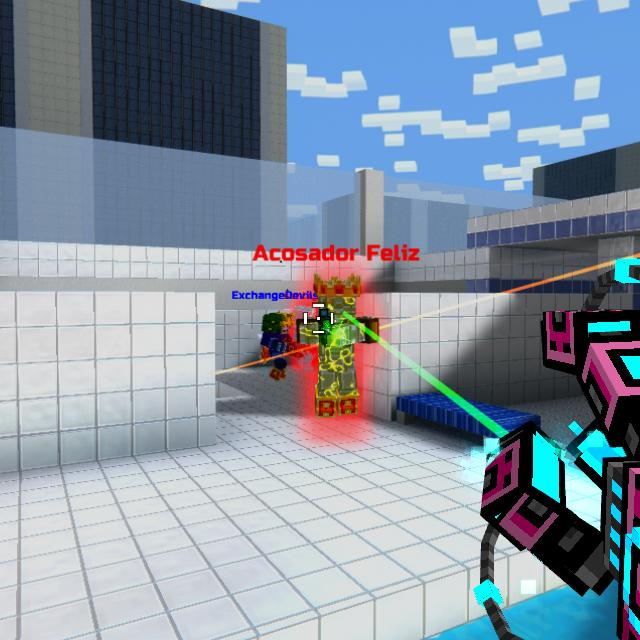Enemy: (296, 281, 381, 420)
